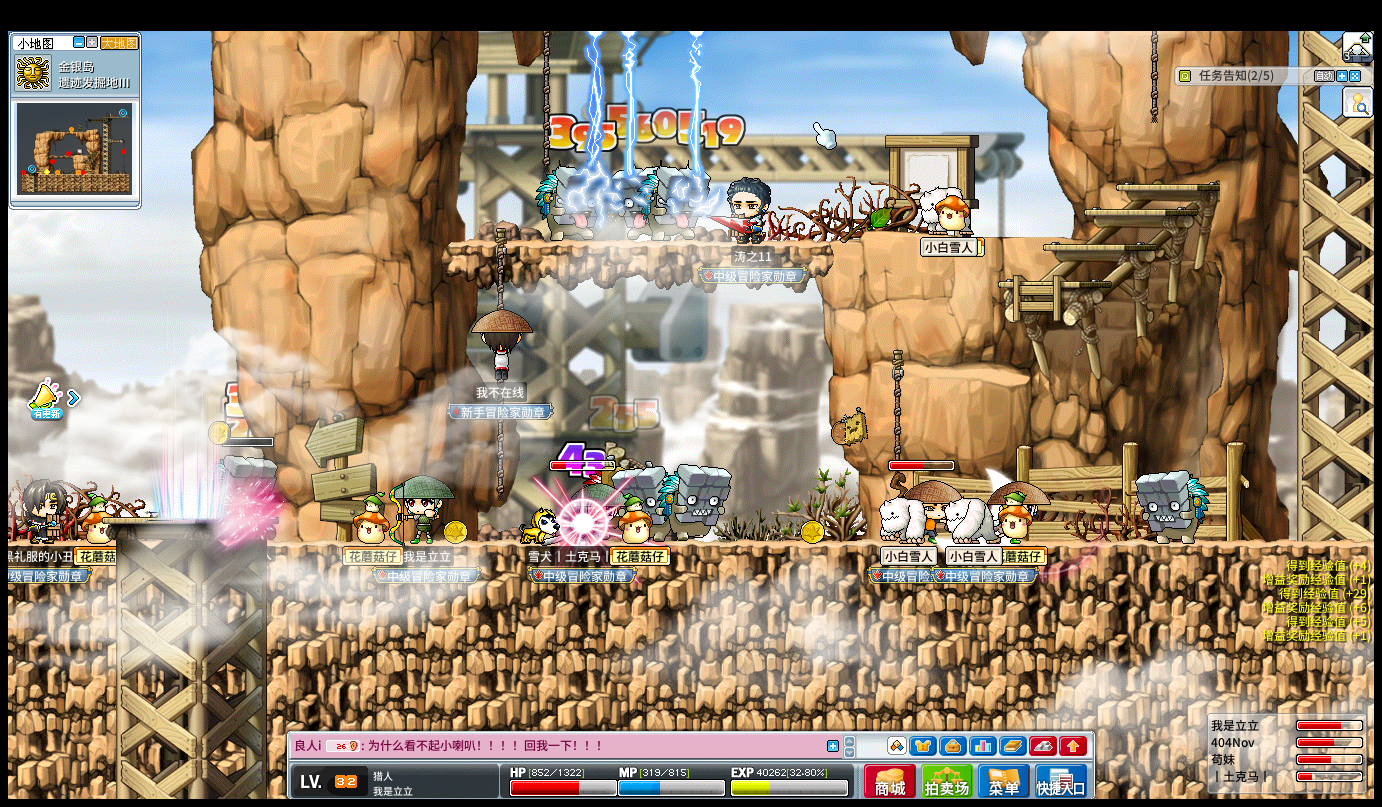floor: (266, 537, 1374, 551), (443, 239, 830, 251), (924, 364, 1031, 385), (101, 517, 279, 524), (8, 540, 123, 550), (954, 231, 1079, 240), (1079, 207, 1194, 216), (995, 279, 1108, 288), (1039, 243, 1160, 250), (1115, 182, 1219, 190), (1116, 184, 1220, 191)
monster: (659, 463, 732, 541), (1135, 469, 1210, 544), (536, 164, 607, 240), (640, 165, 709, 242), (610, 163, 642, 239), (220, 455, 275, 496)
rope: (889, 350, 903, 465), (542, 29, 551, 176), (492, 229, 506, 307), (1148, 31, 1157, 121), (497, 425, 505, 498)
